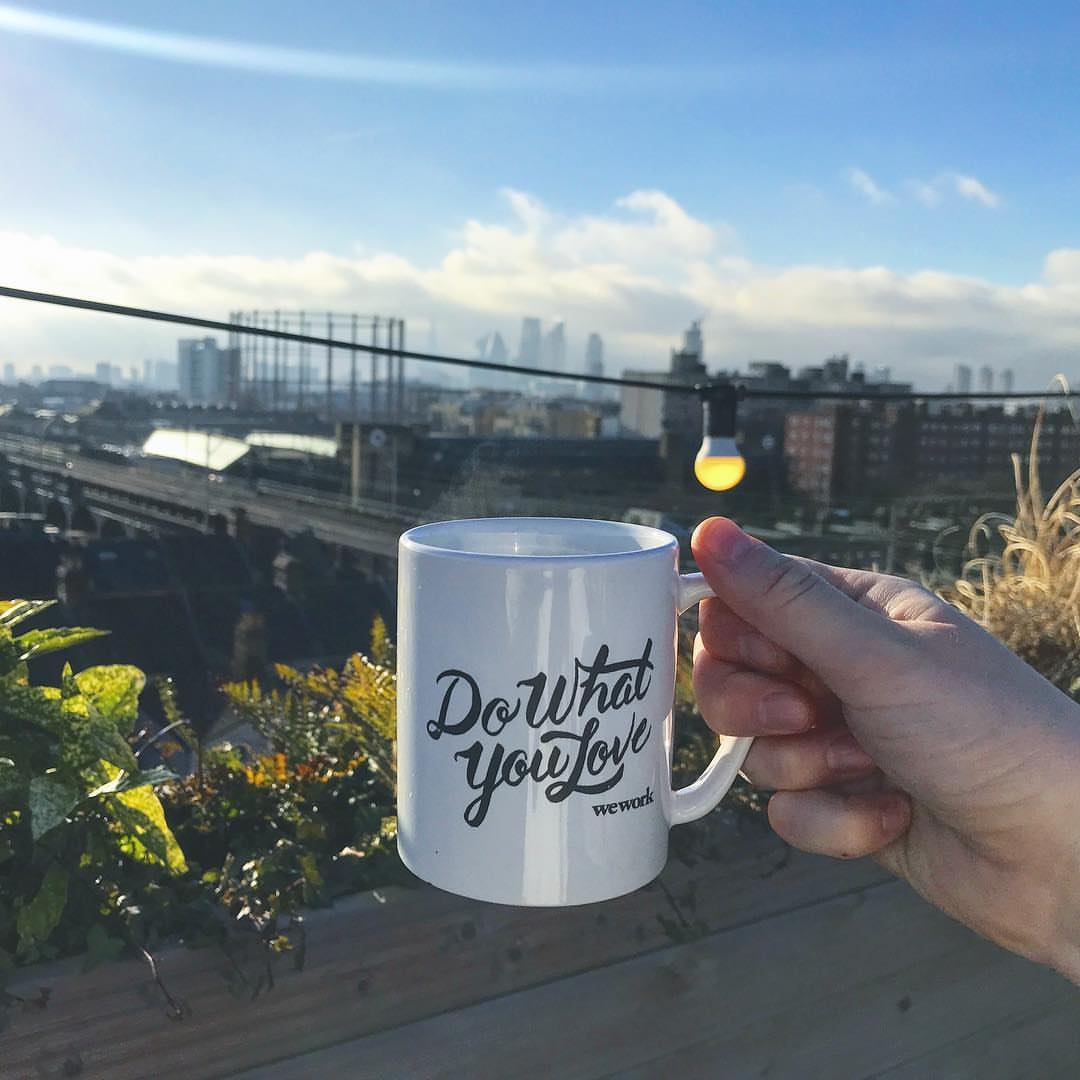wework: (587, 792, 660, 821)
